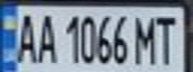0: (78, 11, 96, 64)
1: (60, 11, 81, 64)
6: (109, 11, 133, 65), (93, 11, 115, 65)
A: (12, 9, 39, 64), (33, 9, 57, 64)
M: (130, 11, 160, 65)
T: (151, 11, 184, 65)
